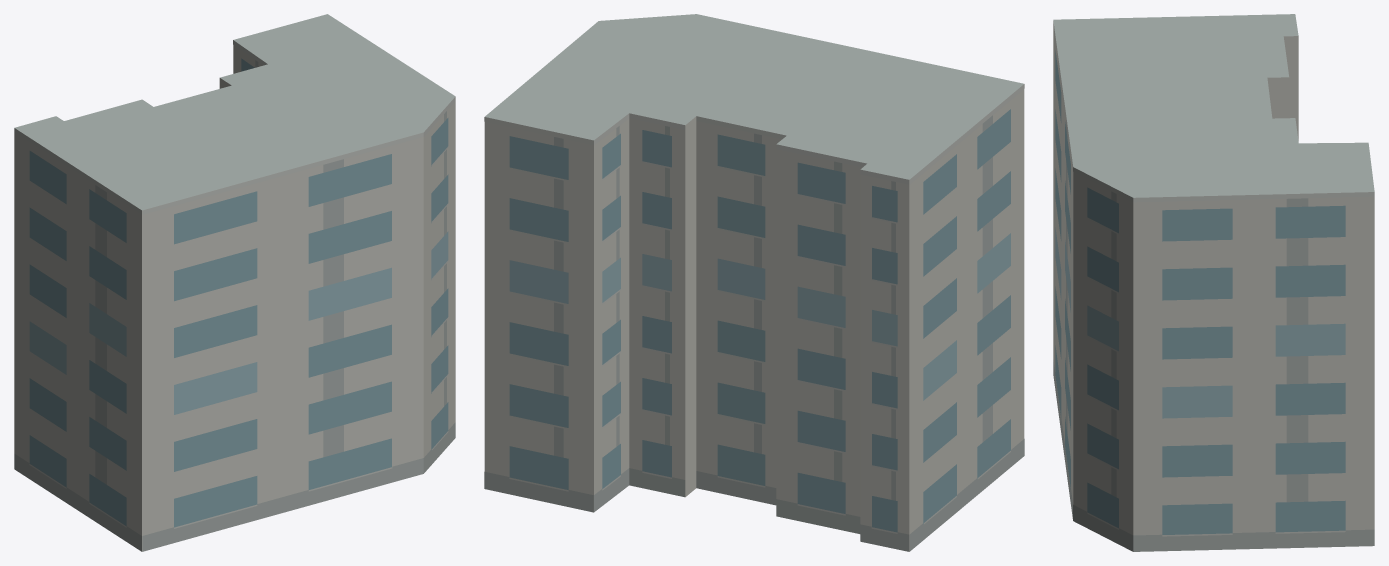
File: survey-upis-32983225.glb
3 renders of one model, left to right at view 1: azimuth 30°, elevation 25°; view 2: azimuth 150°, elevation 25°; view 3: azimuth 270°, elevation 25°, orthographic. The views are drawn at different scales.
Parts seen in each view (by area): view 1: survey-upis-32983225.tmp; view 2: survey-upis-32983225.tmp; view 3: survey-upis-32983225.tmp.
Part boxes in pixels (x1,y1,x2,y2): survey-upis-32983225.tmp: (14,14,455,551); survey-upis-32983225.tmp: (484,14,1024,551); survey-upis-32983225.tmp: (1053,14,1374,551).
Size of the model in its own units: 20.39 by 18.3 by 15.07.
